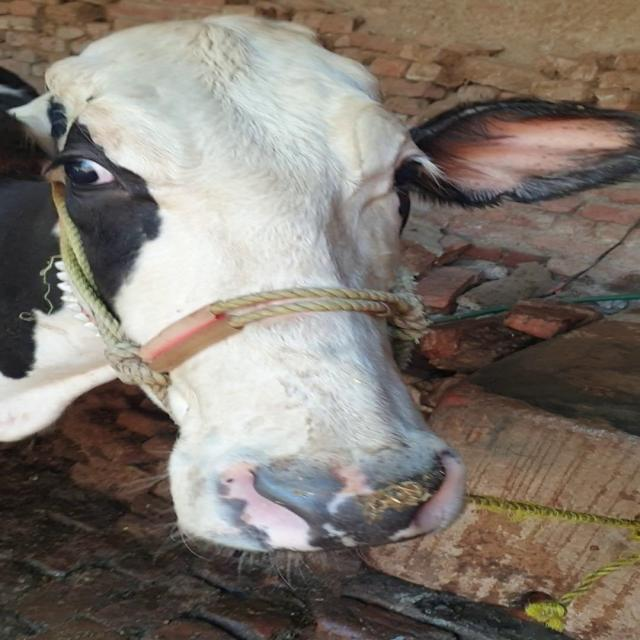cowFace: (6, 11, 513, 549)
